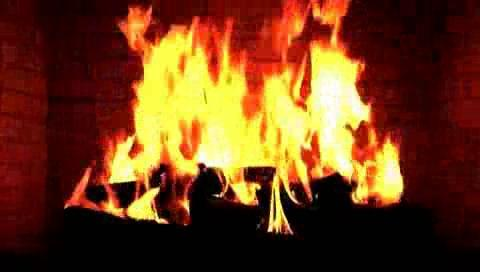fire: (119, 13, 392, 221)
